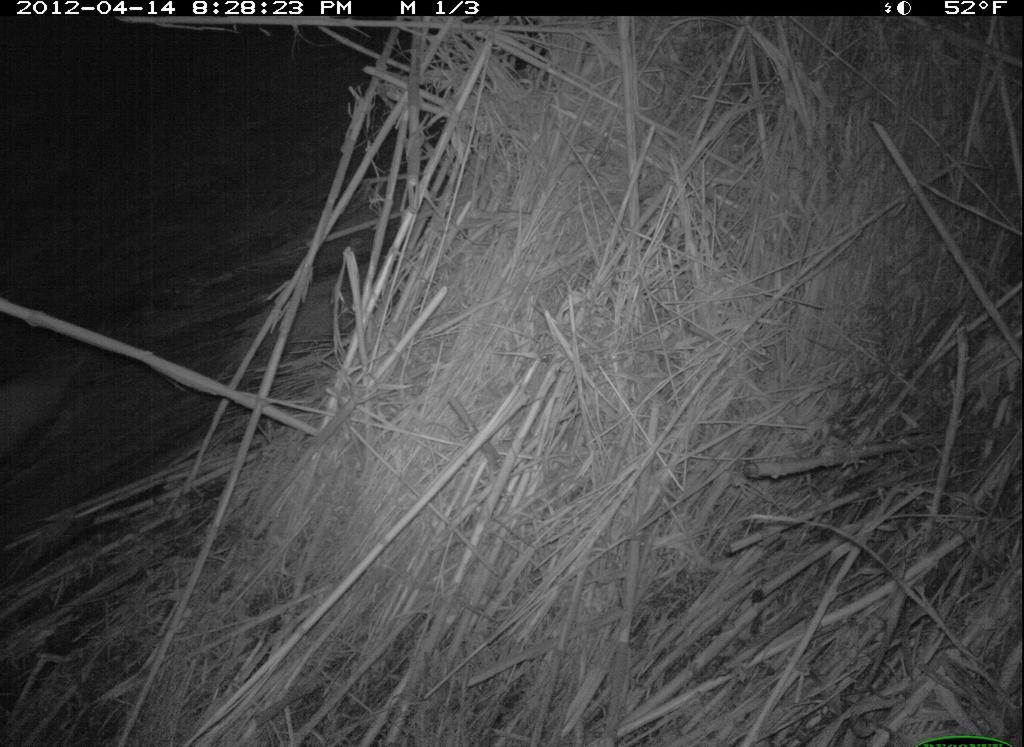opossum: (3, 338, 111, 470)
